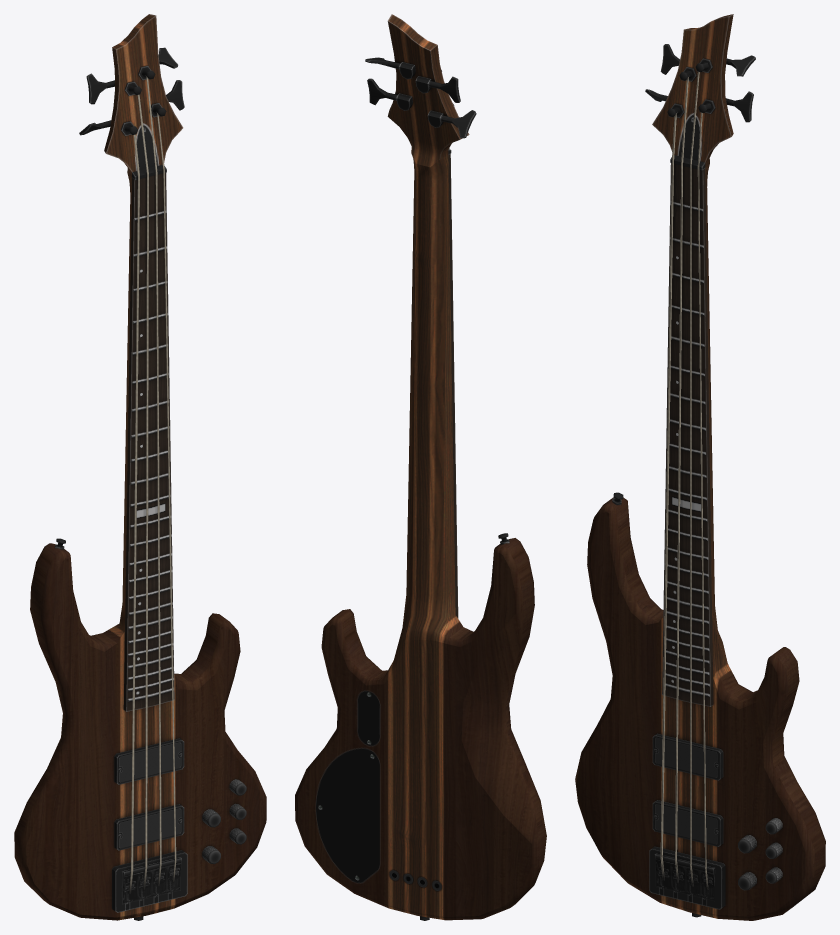
The model's file is BassGuitar.FBX.
3 renders of one model, left to right at view 1: azimuth 30°, elevation 25°; view 2: azimuth 150°, elevation 25°; view 3: azimuth 330°, elevation 25°, orthographic.
Visible parts, largest first — view 1: BassGuitar; view 2: BassGuitar; view 3: BassGuitar.
Boxes of the visible parts, x1=… form: BassGuitar: x1=14, y1=14, x2=266, y2=920; BassGuitar: x1=295, y1=14, x2=546, y2=920; BassGuitar: x1=575, y1=14, x2=825, y2=920.
Bounding box in the file's own units: 31.3 × 111 × 7.22.
1 material, 1 textured.
